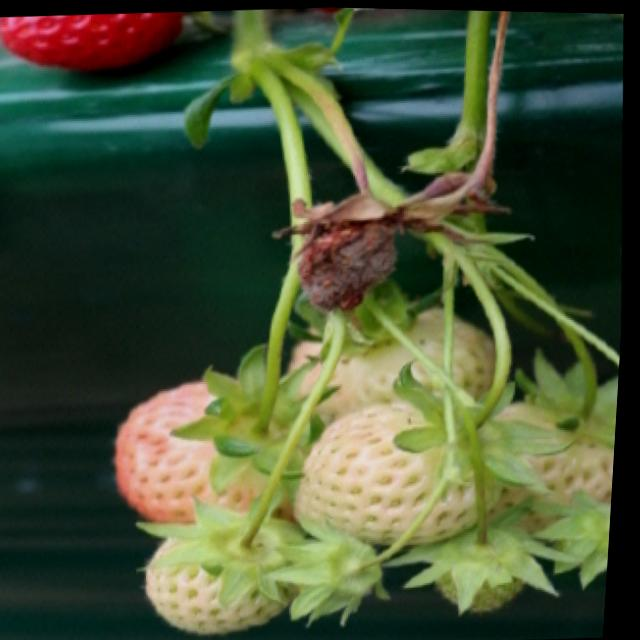Gray Mold: (274, 164, 445, 313)
